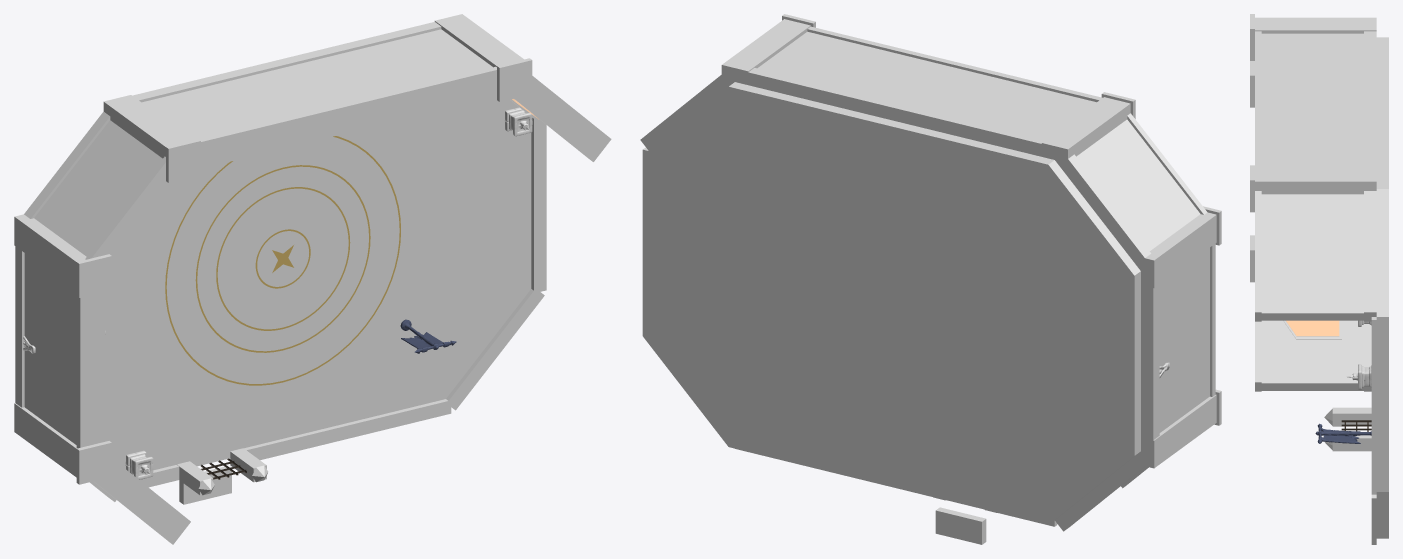
The model's file is kernel_guard.glb.
3 renders of one model, left to right at view 1: azimuth 30°, elevation 25°; view 2: azimuth 150°, elevation 25°; view 3: azimuth 270°, elevation 25°, orthographic. The views are drawn at different scales.
Visible parts, largest first — view 1: floor-plane, wall-2-body, wall-2-cornice, wall-0-body, wall-1-body, wall-1-cornice, floor-court, kerb-0-0, wall-0-cornice, wall-2-plinth, wall-4-cornice, wall-3-cornice (+15 smaller); view 2: floor-slab, wall-2-body, wall-0-body, wall-1-body, wall-2-plinth, wall-1-plinth, pier-0, pier-2, pier-1, pier-4, wall-0-plinth, wall-2-cornice (+5 smaller); view 3: wall-2-body, wall-4-body, wall-3-body, floor-slab, pier-4, pier-2, wall-2-plinth, wall-4-plinth, gate, kerb-1-0, wall-2-cornice, wall-4-cornice (+12 smaller).
Boxes of the visible parts, box(x1,y1,x2,y2) form: floor-plane: box(105, 96, 531, 475); wall-2-body: box(142, 29, 492, 140); wall-2-cornice: box(199, 66, 496, 168); wall-0-body: box(34, 120, 162, 256); wall-1-body: box(24, 253, 76, 444); wall-1-cornice: box(76, 291, 105, 448); floor-court: box(165, 136, 400, 385); kerb-0-0: box(244, 399, 451, 460); wall-0-cornice: box(85, 156, 180, 268); wall-2-plinth: box(132, 22, 441, 102); wall-4-cornice: box(514, 76, 611, 161); wall-3-cornice: box(94, 458, 190, 544); floor-slab: box(642, 82, 1140, 524); wall-2-body: box(758, 31, 1096, 138); wall-0-body: box(1076, 119, 1200, 251); wall-1-body: box(1159, 247, 1209, 432); wall-2-plinth: box(735, 68, 1054, 159); wall-1-plinth: box(1141, 271, 1159, 453); pier-0: box(1128, 212, 1216, 287); pier-2: box(1041, 97, 1130, 176); pier-1: box(1128, 394, 1216, 468); pier-4: box(721, 19, 810, 91); wall-0-plinth: box(1058, 153, 1150, 266); wall-2-cornice: box(807, 26, 1102, 102); wall-2-body: box(1261, 33, 1363, 168); wall-4-body: box(1261, 194, 1363, 320); wall-3-body: box(1261, 320, 1363, 390); floor-slab: box(1377, 37, 1388, 538); pier-4: box(1255, 169, 1376, 194); pier-2: box(1255, 17, 1376, 33); wall-2-plinth: box(1364, 31, 1376, 168); wall-4-plinth: box(1364, 191, 1376, 321); gate: box(1324, 407, 1371, 451); kerb-1-0: box(1371, 317, 1376, 494); wall-2-cornice: box(1255, 31, 1261, 168); wall-4-cornice: box(1255, 191, 1261, 321).
Size of the model in its own units: 20.99 by 16.04 by 5.04.
